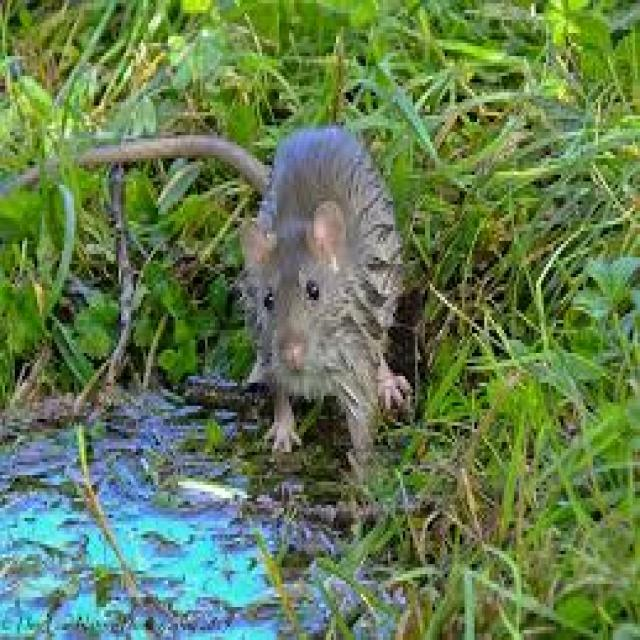rat: (72, 119, 420, 488)
